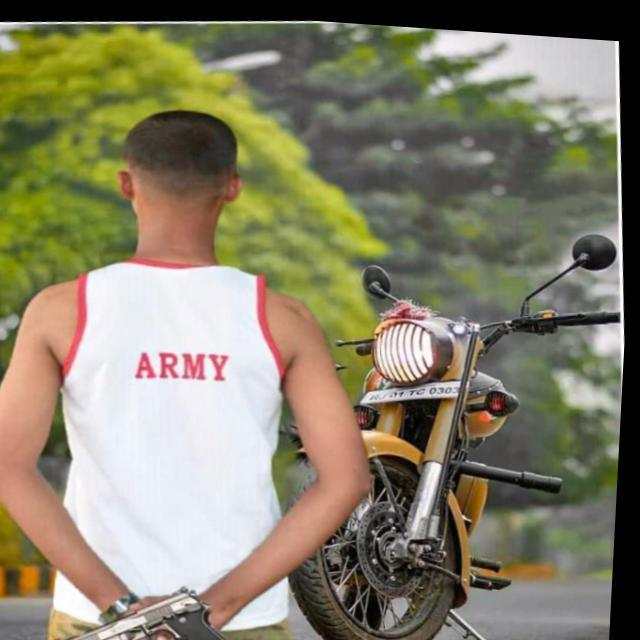weapon: (38, 564, 265, 640)
